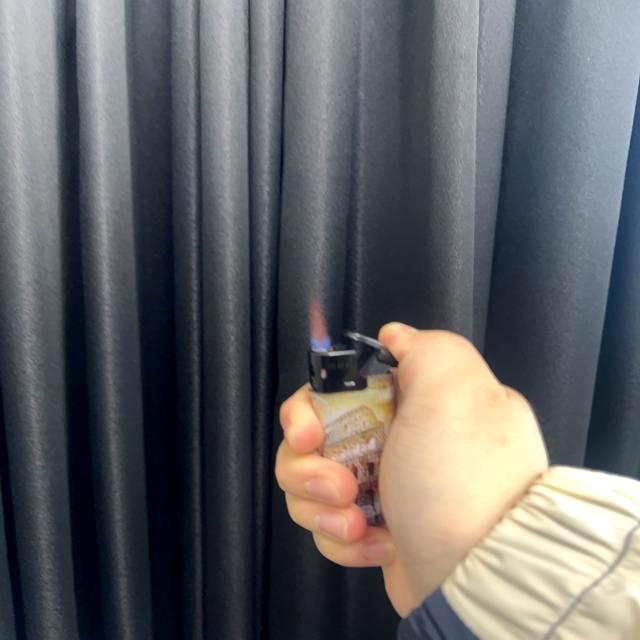fire: (306, 293, 330, 351)
